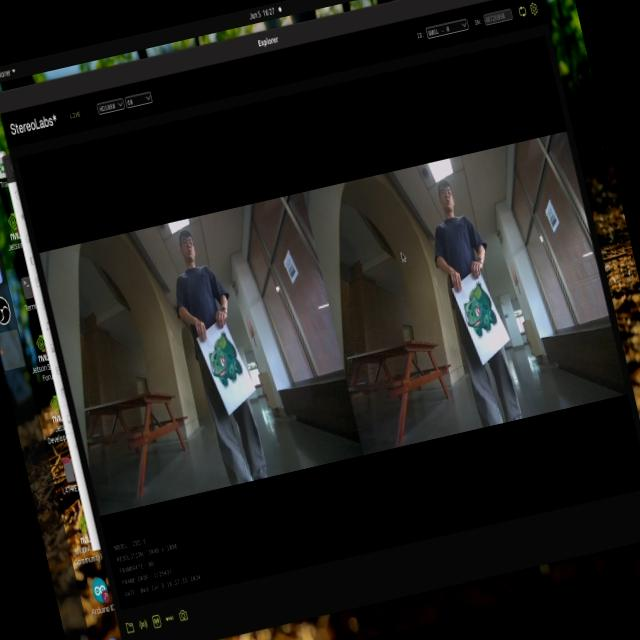green: (200, 329, 248, 393), (454, 277, 494, 335)
